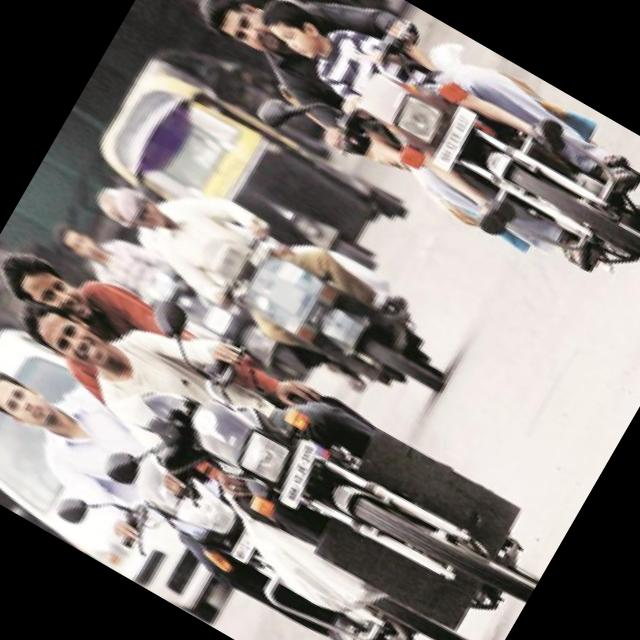bareface: (5, 282, 126, 382), (195, 0, 300, 70)
